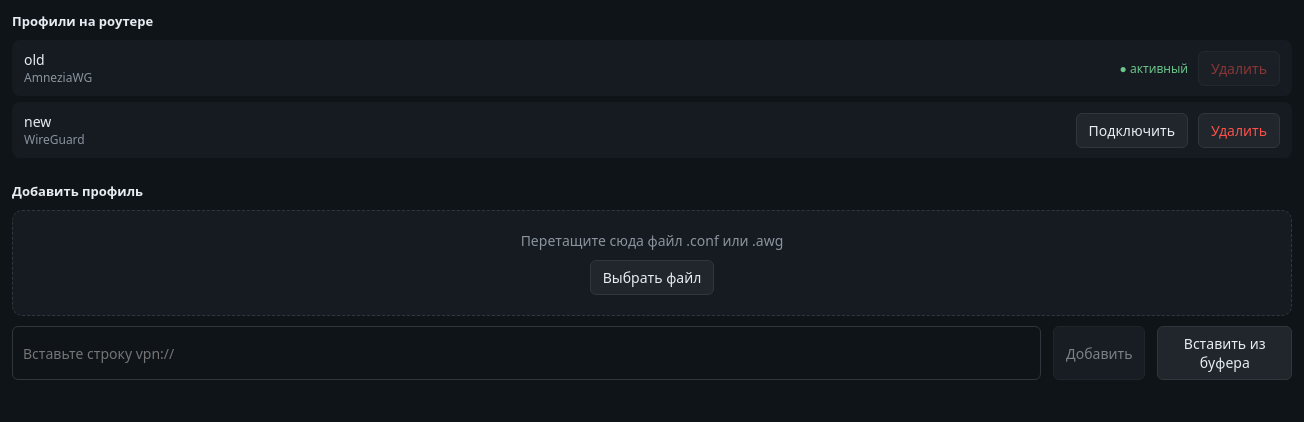
Scenario: Profiles › tells when it fell back to the previous profile
Click the button "Подключить": (1132, 130) [1076,112,1188,148]
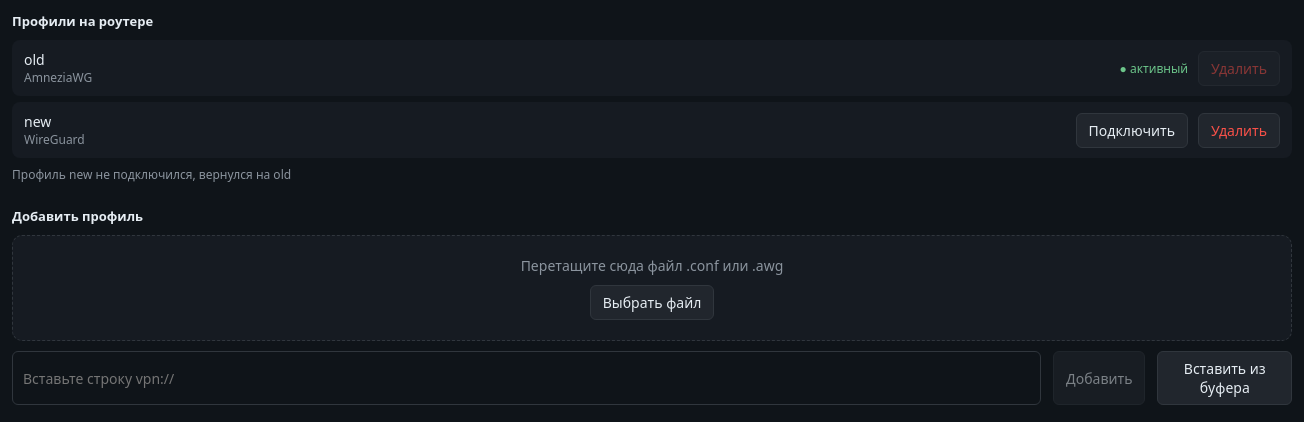
Result: the text "Профиль new не подключился, вернулся на old" is shown at [12,166,291,183]
